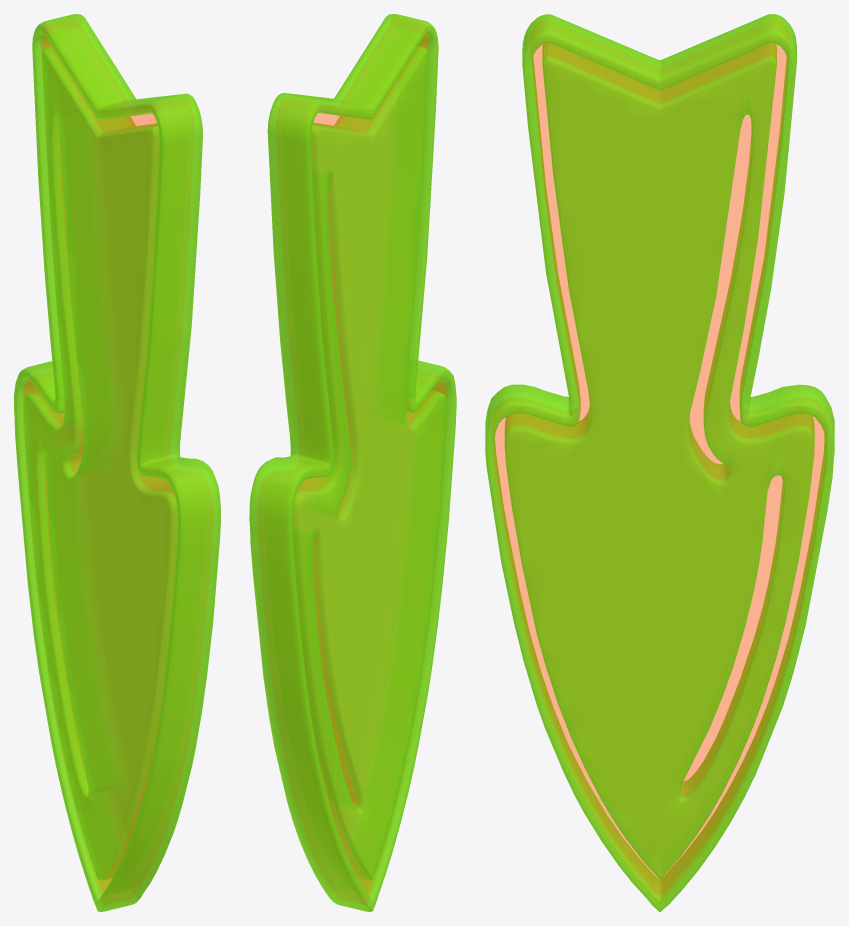
The model's file is arrow.glb.
3 renders of one model, left to right at view 1: azimuth 30°, elevation 25°; view 2: azimuth 150°, elevation 25°; view 3: azimuth 270°, elevation 25°, orthographic. The views are drawn at different scales.
Visible parts, largest first — view 1: Colorful glowing arrow.05; view 2: Colorful glowing arrow.05; view 3: Colorful glowing arrow.05.
Boxes of the visible parts, <box> form: Colorful glowing arrow.05: <box>14,14,220,911</box>; Colorful glowing arrow.05: <box>249,14,456,911</box>; Colorful glowing arrow.05: <box>485,14,834,911</box>.
Size of the model in its own units: 0.05 by 1 by 0.3595.
